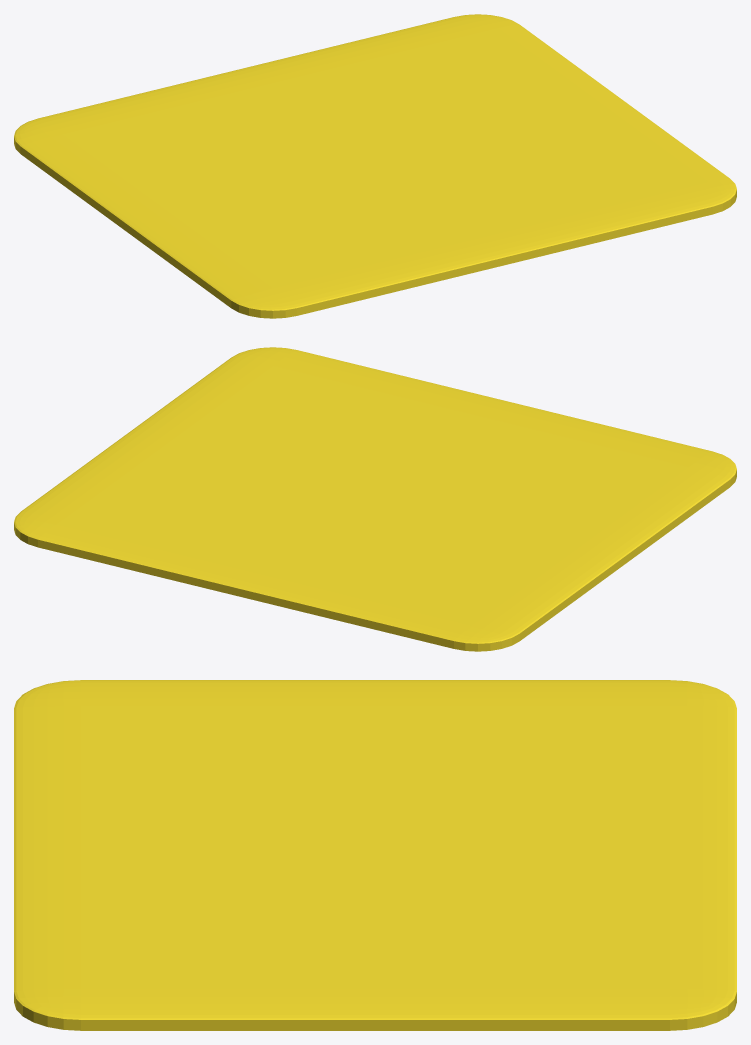
File: cheddar.fbx
3 views of the same model, one above another, from view 1: azimuth 30°, elevation 25°; view 2: azimuth 150°, elevation 25°; view 3: azimuth 270°, elevation 25° (orthographic). The views are drawn at different scales.
Visible parts, largest first — view 1: Cube; view 2: Cube; view 3: Cube.
Part boxes in pixels (left/top/right/bottom): Cube: left=14, top=14, right=736, bottom=318; Cube: left=14, top=347, right=736, bottom=651; Cube: left=14, top=680, right=736, bottom=1030.
Size of the model in its own units: 225 by 4.95 by 202.
